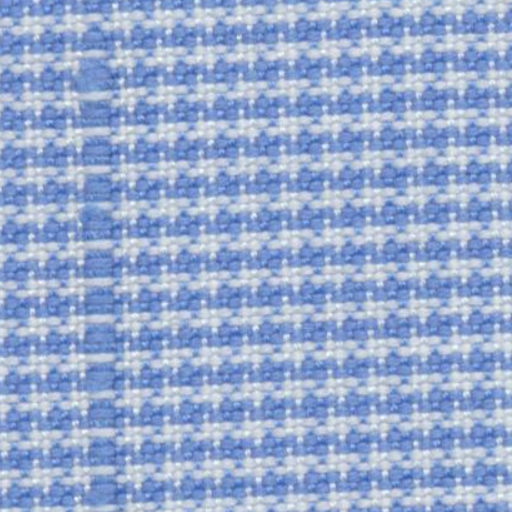TuoSha: (36, 46, 176, 499)
